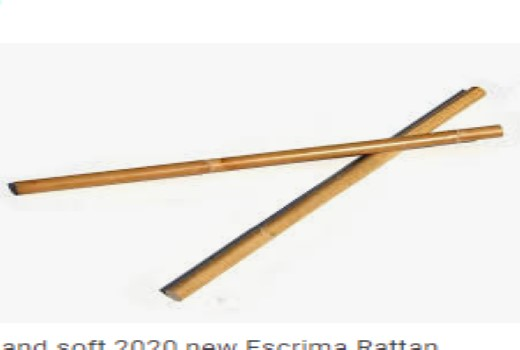baston_e: (188, 93, 460, 300), (23, 119, 489, 203)
baston_v: (154, 274, 188, 307), (0, 174, 25, 202), (486, 113, 505, 144), (465, 75, 488, 99)
